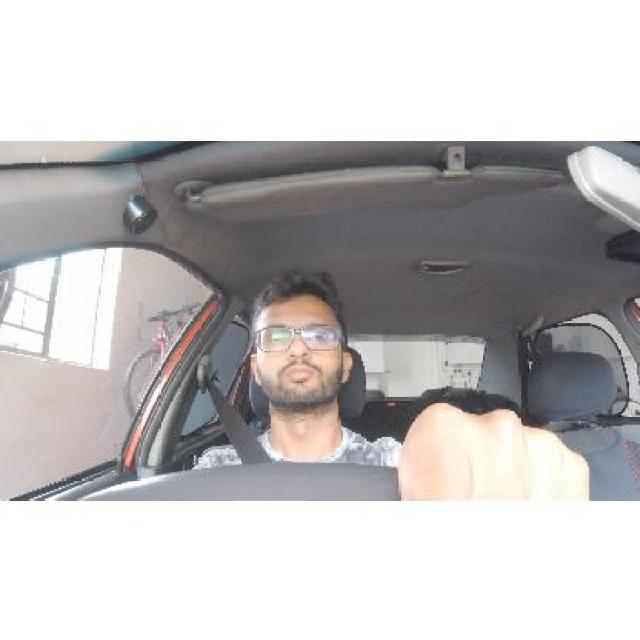person: (242, 282, 362, 406)
